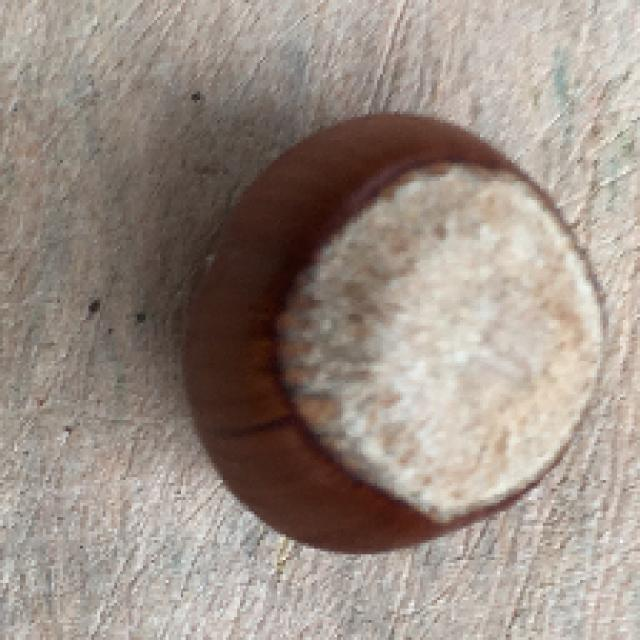qualityHazelnut: (176, 102, 612, 559)
